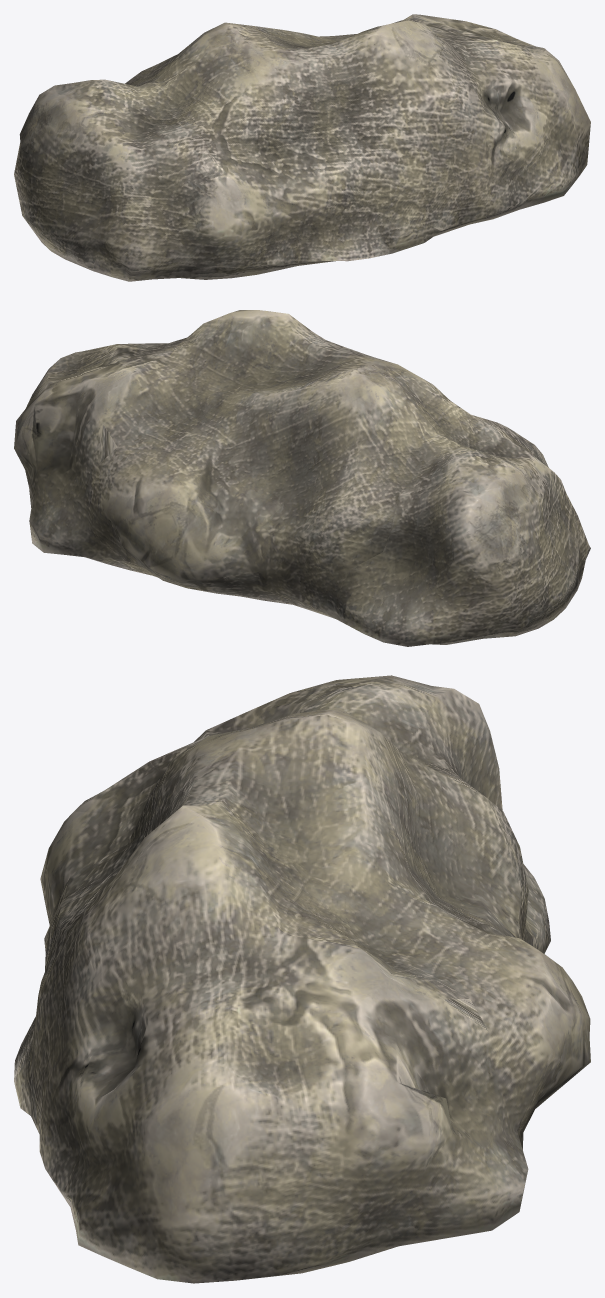
The model's file is rock5_LOD0.fbx.
3 renders of one model, top to bottom at view 1: azimuth 30°, elevation 25°; view 2: azimuth 150°, elevation 25°; view 3: azimuth 270°, elevation 25°, orthographic. The views are drawn at different scales.
Parts seen in each view (by area): view 1: rock5_LOD0; view 2: rock5_LOD0; view 3: rock5_LOD0.
Boxes of the visible parts, x1,y1,x2,y2 form: rock5_LOD0: (14, 14, 590, 281); rock5_LOD0: (14, 310, 590, 646); rock5_LOD0: (14, 675, 590, 1283).
Size of the model in its own units: 3060 by 1067 by 1755.
Materials: 1 (1 with a texture image).
